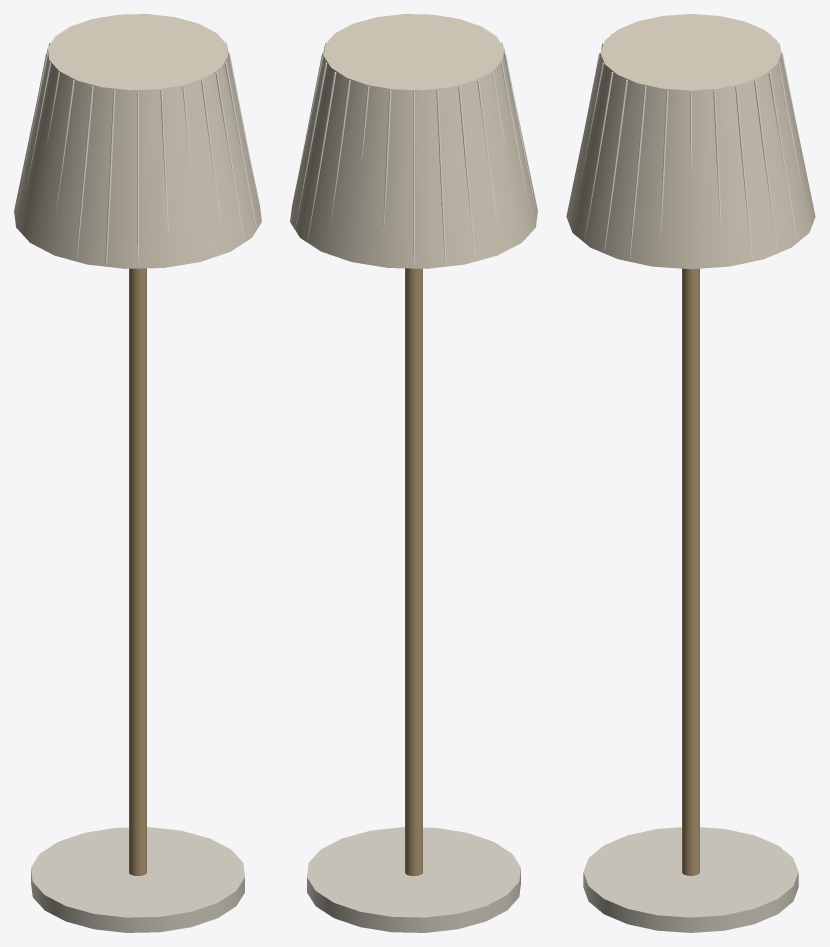
The picture shows the model from 3 angles, left to right: view 1: azimuth 30°, elevation 25°; view 2: azimuth 150°, elevation 25°; view 3: azimuth 270°, elevation 25°; orthographic projection.
Parts seen in each view (by area): view 1: Pleated shade, Weighted floor base, Brass upright; view 2: Pleated shade, Weighted floor base, Brass upright; view 3: Pleated shade, Weighted floor base, Brass upright.
Boxes of the visible parts, x1,y1,x2,y2 form: Pleated shade: [14, 14, 261, 268]; Weighted floor base: [31, 827, 244, 932]; Brass upright: [129, 268, 146, 875]; Pleated shade: [290, 14, 537, 268]; Weighted floor base: [307, 827, 520, 932]; Brass upright: [405, 268, 422, 875]; Pleated shade: [566, 14, 815, 269]; Weighted floor base: [583, 827, 798, 932]; Brass upright: [682, 268, 699, 875].
Bounding box in the file's own units: 0.44 × 1.63 × 0.44.
